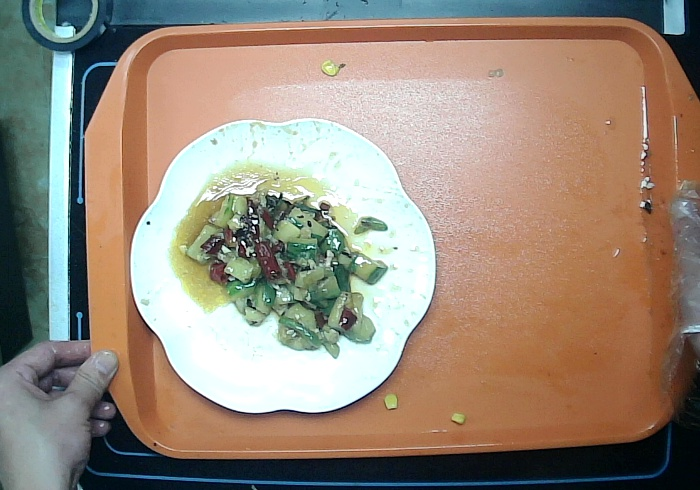HZYJPL-Bai_Se_Hua_Duo_Wan: (127, 112, 439, 419)
